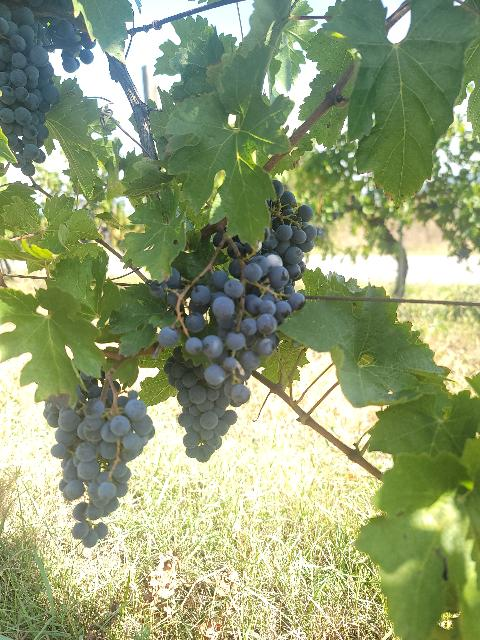grapes: (44, 372, 155, 548), (201, 261, 305, 405), (164, 348, 238, 462), (262, 180, 318, 280)
